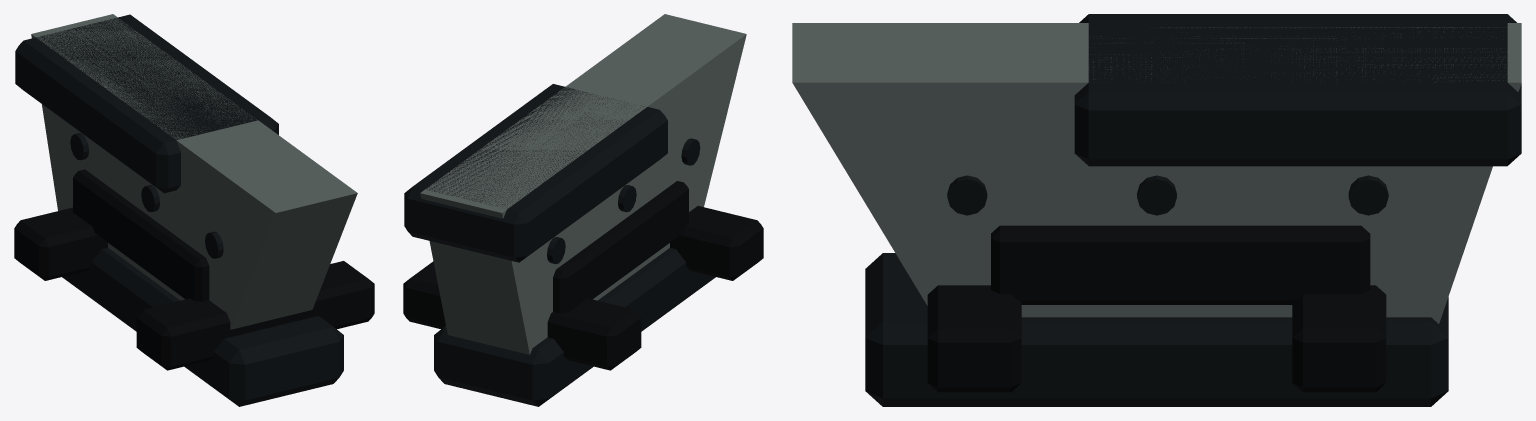
Rendered from PylonLight.obj.
The picture shows the model from 3 angles, left to right: view 1: azimuth 30°, elevation 25°; view 2: azimuth 150°, elevation 25°; view 3: azimuth 270°, elevation 25°; orthographic projection. The views are drawn at different scales.
Parts seen in each view (by area): view 1: Tapered_pylon_casting, Mount_lug, Lower_store_interface, Sway_brace.001, Store_actuator_cover, Sway_brace, Pylon_fitting_bolt.002, Pylon_fitting_bolt, Pylon_fitting_bolt.001; view 2: Tapered_pylon_casting, Mount_lug, Lower_store_interface, Store_actuator_cover, Sway_brace, Sway_brace.001, Pylon_fitting_bolt, Pylon_fitting_bolt.001, Pylon_fitting_bolt.002; view 3: Tapered_pylon_casting, Mount_lug, Lower_store_interface, Store_actuator_cover.001, Sway_brace.001, Sway_brace, Pylon_fitting_bolt.003, Pylon_fitting_bolt.005, Pylon_fitting_bolt.004.
Boxes of the visible parts, x1,y1,x2,y2 form: Tapered_pylon_casting: (31, 14, 357, 329); Mount_lug: (15, 14, 278, 193); Lower_store_interface: (62, 248, 343, 406); Sway_brace.001: (136, 261, 374, 370); Store_actuator_cover: (73, 169, 209, 301); Sway_brace: (14, 207, 107, 280); Pylon_fitting_bolt.002: (205, 231, 223, 258); Pylon_fitting_bolt: (70, 133, 89, 160); Pylon_fitting_bolt.001: (141, 185, 159, 212); Tapered_pylon_casting: (420, 14, 746, 354); Mount_lug: (404, 84, 667, 262); Lower_store_interface: (434, 248, 715, 406); Store_actuator_cover: (553, 181, 688, 313); Sway_brace: (403, 261, 641, 370); Sway_brace.001: (670, 206, 763, 280); Pylon_fitting_bolt: (547, 237, 565, 264); Pylon_fitting_bolt.001: (618, 185, 636, 212); Pylon_fitting_bolt.002: (681, 138, 700, 165); Tapered_pylon_casting: (792, 23, 1521, 323); Mount_lug: (1074, 14, 1521, 166); Lower_store_interface: (865, 253, 1448, 406); Store_actuator_cover.001: (991, 225, 1370, 304); Sway_brace.001: (927, 285, 1021, 392); Sway_brace: (1292, 285, 1386, 392); Pylon_fitting_bolt.003: (1348, 175, 1388, 215); Pylon_fitting_bolt.005: (947, 175, 987, 215); Pylon_fitting_bolt.004: (1137, 175, 1176, 215).
Bounding box in the file's own units: 0.312 × 0.3 × 0.62.
